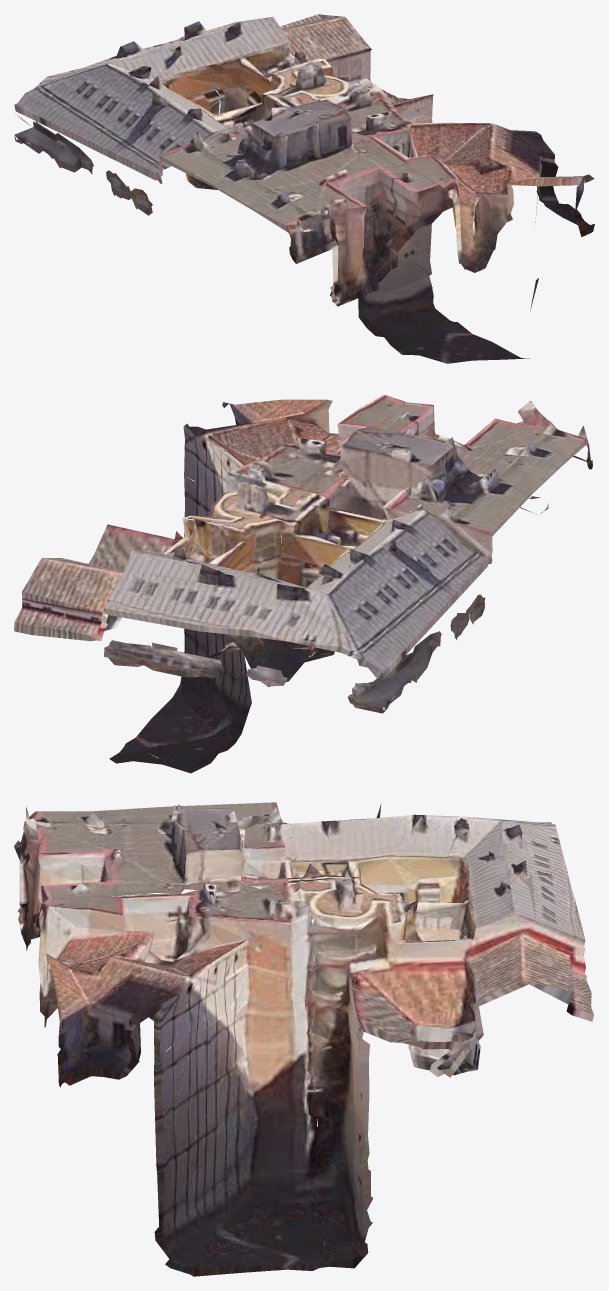
The picture shows the model from 3 angles, top to bottom: view 1: azimuth 30°, elevation 25°; view 2: azimuth 150°, elevation 25°; view 3: azimuth 270°, elevation 25°; orthographic projection. The views are drawn at different scales.
Parts seen in each view (by area): view 1: Mesh_0; view 2: Mesh_0; view 3: Mesh_0.
Boxes of the visible parts, x1=… form: Mesh_0: x1=14, y1=14, x2=594, y2=363; Mesh_0: x1=14, y1=394, x2=592, y2=773; Mesh_0: x1=14, y1=802, x2=593, y2=1276.
Size of the model in its own units: 33.75 by 26.66 by 41.28.
Materials: 2 (2 with a texture image).
